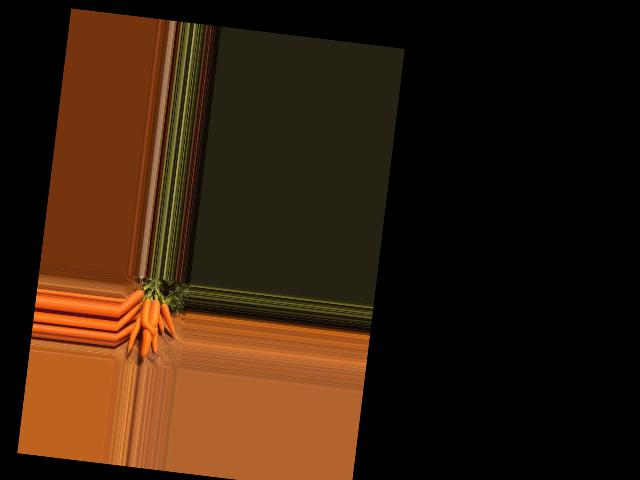carrot: (119, 285, 145, 318)
